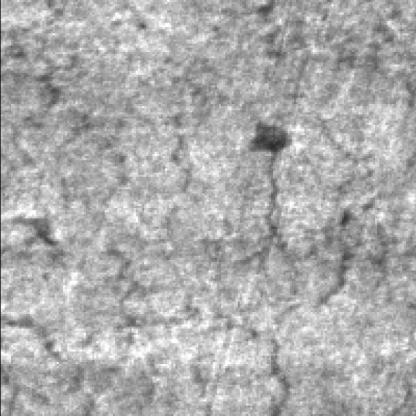crazing: (6, 29, 162, 416), (152, 56, 297, 416), (268, 108, 406, 416)
